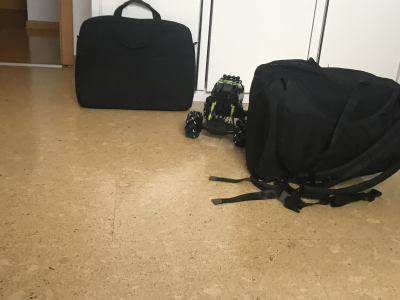remote control car: (182, 67, 251, 148)
